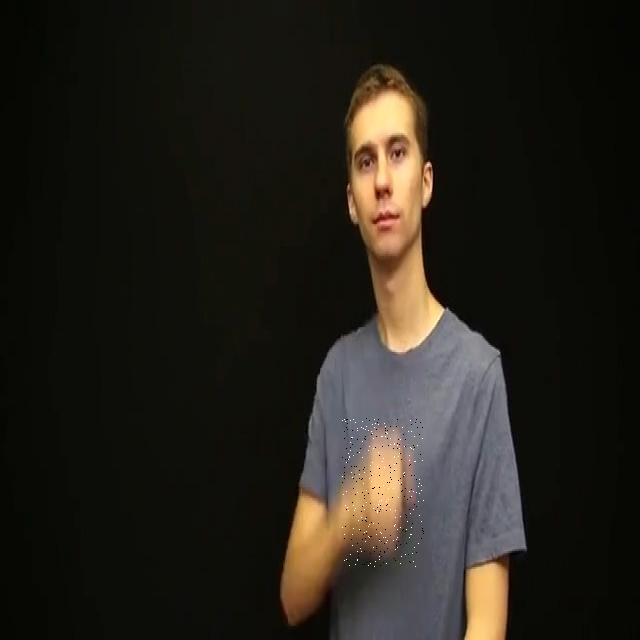icecream: (342, 418, 424, 567)
